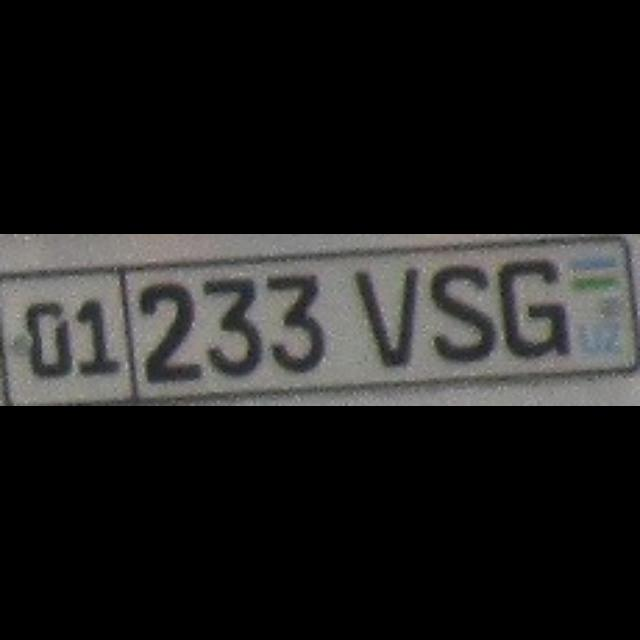0: (22, 300, 70, 376)
1: (70, 295, 116, 373)
2: (136, 282, 200, 378)
3: (265, 273, 323, 373), (201, 278, 259, 374)
G: (495, 256, 565, 354)
S: (426, 262, 490, 360)
V: (351, 268, 415, 364)
